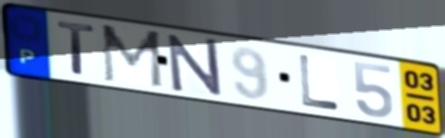5: (351, 59, 396, 120)
9: (228, 44, 271, 102)
L: (297, 52, 343, 113)
M: (99, 23, 166, 91)
N: (165, 33, 225, 98)
T: (55, 19, 99, 78)
